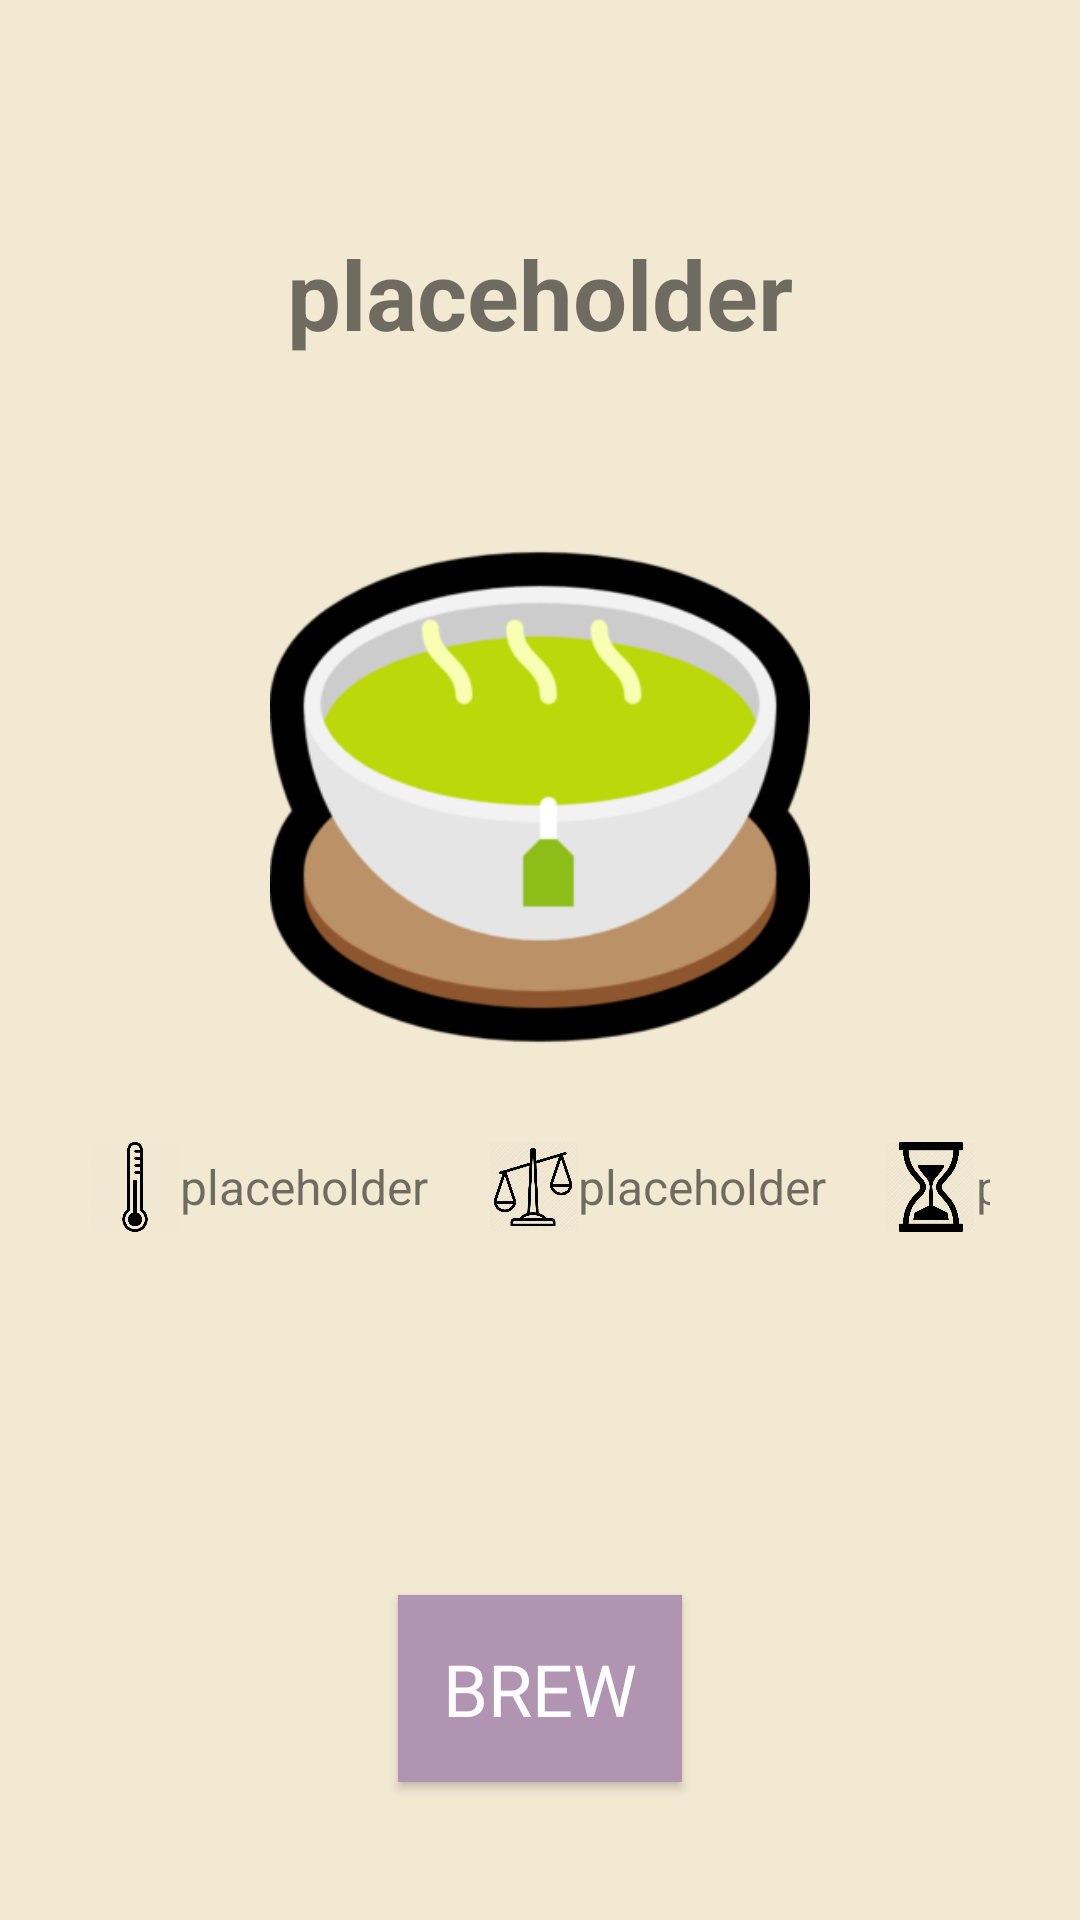

Screen size 1080px x 1920px. Icon name, then its center in pixels as (x=x, y=y):
hour glass: (x=931, y=1187)
scale: (x=533, y=1187)
thermometer: (x=135, y=1187)
